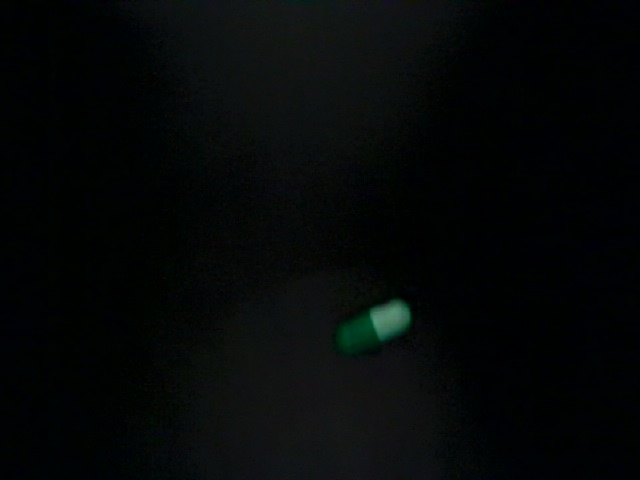YHLJ: (235, 6, 488, 110)
